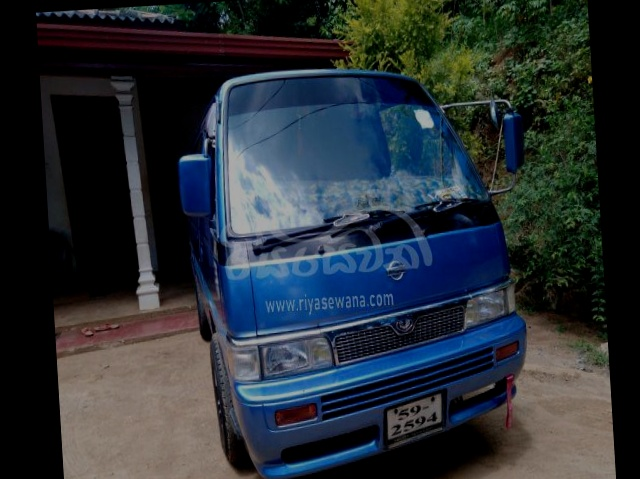van: (154, 48, 559, 479)
